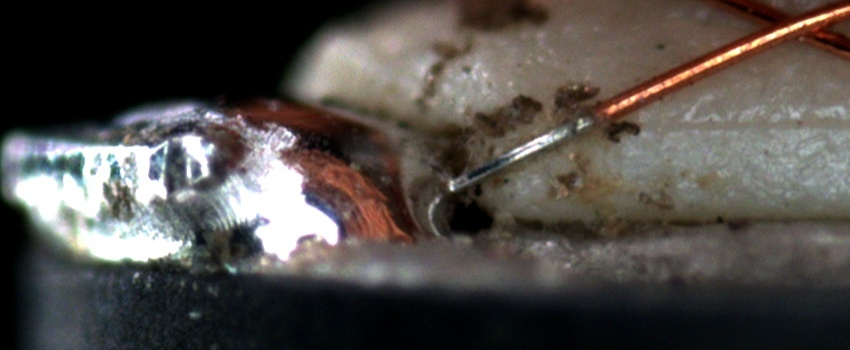CL: (740, 2, 841, 53)
DL: (629, 95, 850, 159)
TS: (447, 112, 596, 193)
